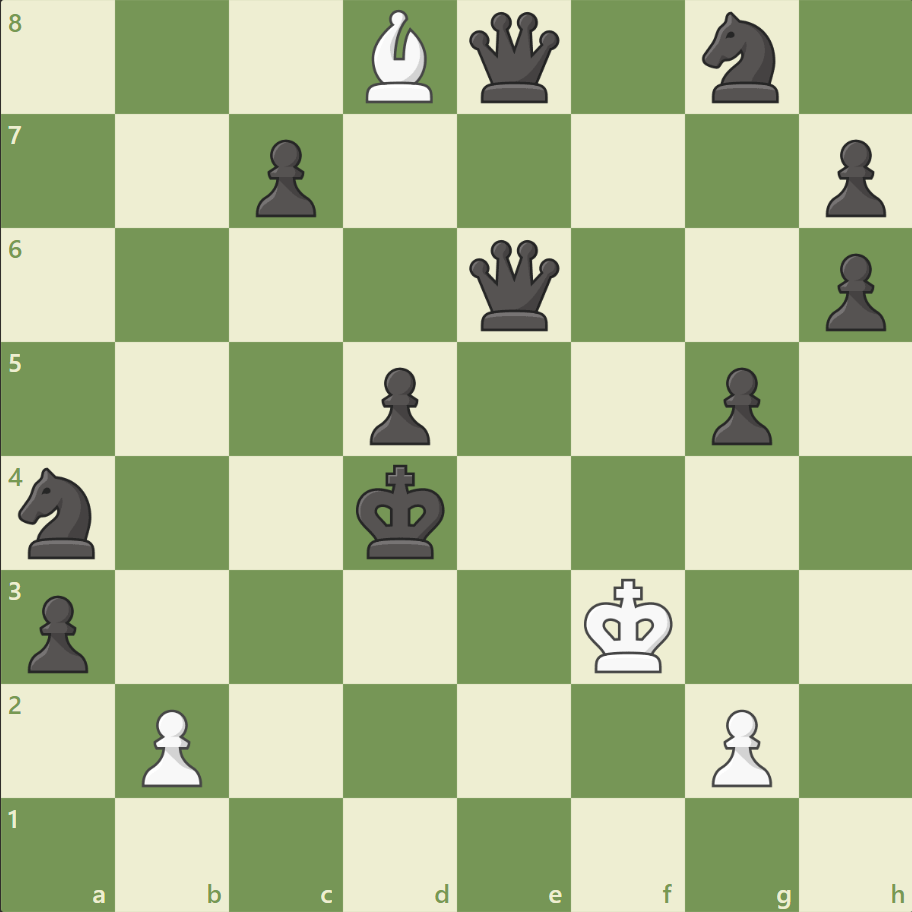B: (358, 6, 442, 109)
K: (579, 571, 679, 679)
P: (133, 700, 208, 791), (701, 700, 776, 791)
k: (351, 458, 451, 566)
n: (692, 7, 789, 110), (11, 461, 108, 564)
p: (247, 132, 322, 223), (701, 359, 776, 450), (20, 586, 95, 677), (815, 132, 889, 223), (815, 246, 889, 337), (361, 359, 435, 450)
q: (464, 9, 563, 108), (464, 236, 563, 335)
